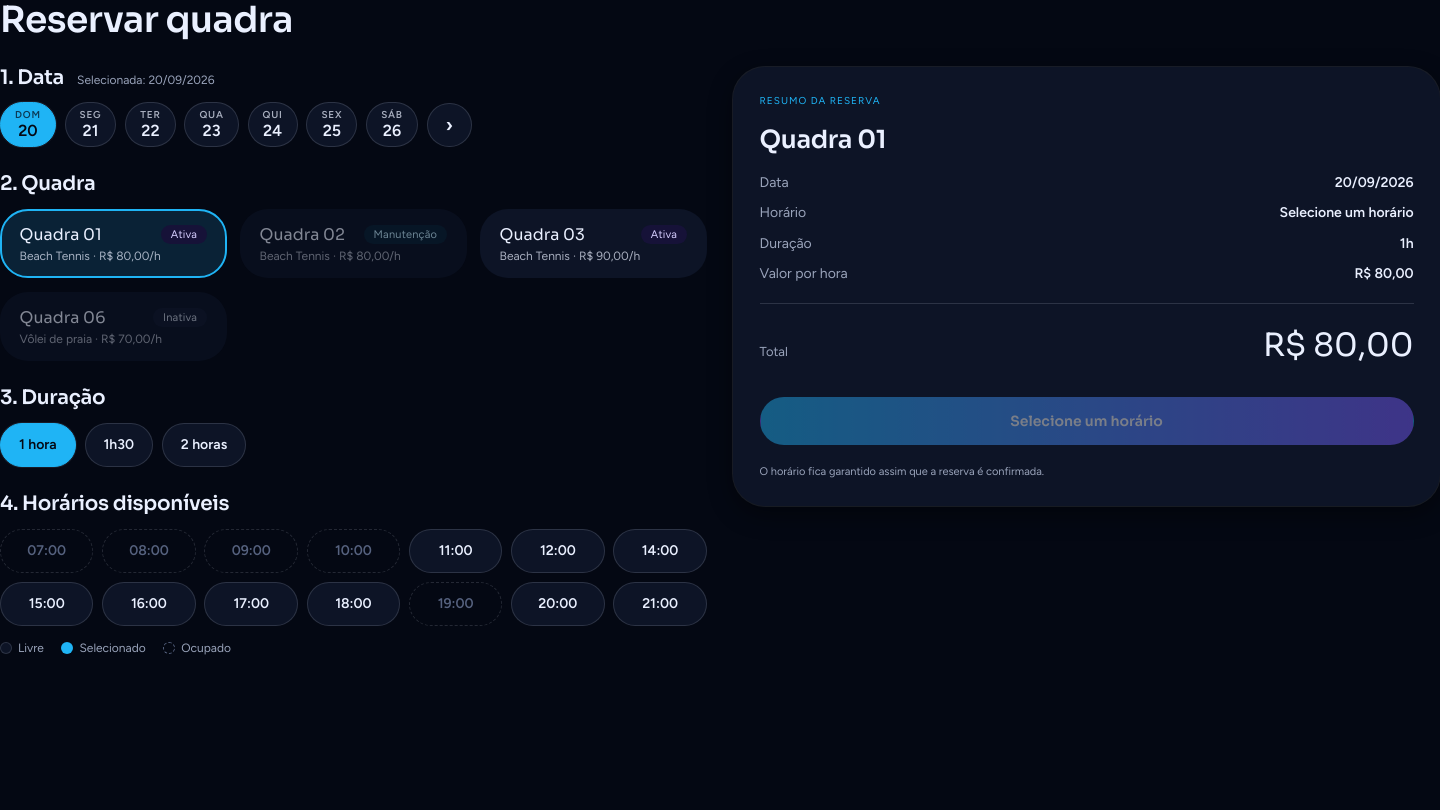
Scenario: ReservarPage › exibe o erro do backend, fecha o diálogo e limpa o horário
The width and height of the screenshot is (1440, 810).
Click the button "15:00": coordinates (47, 604) [0, 582, 93, 626]
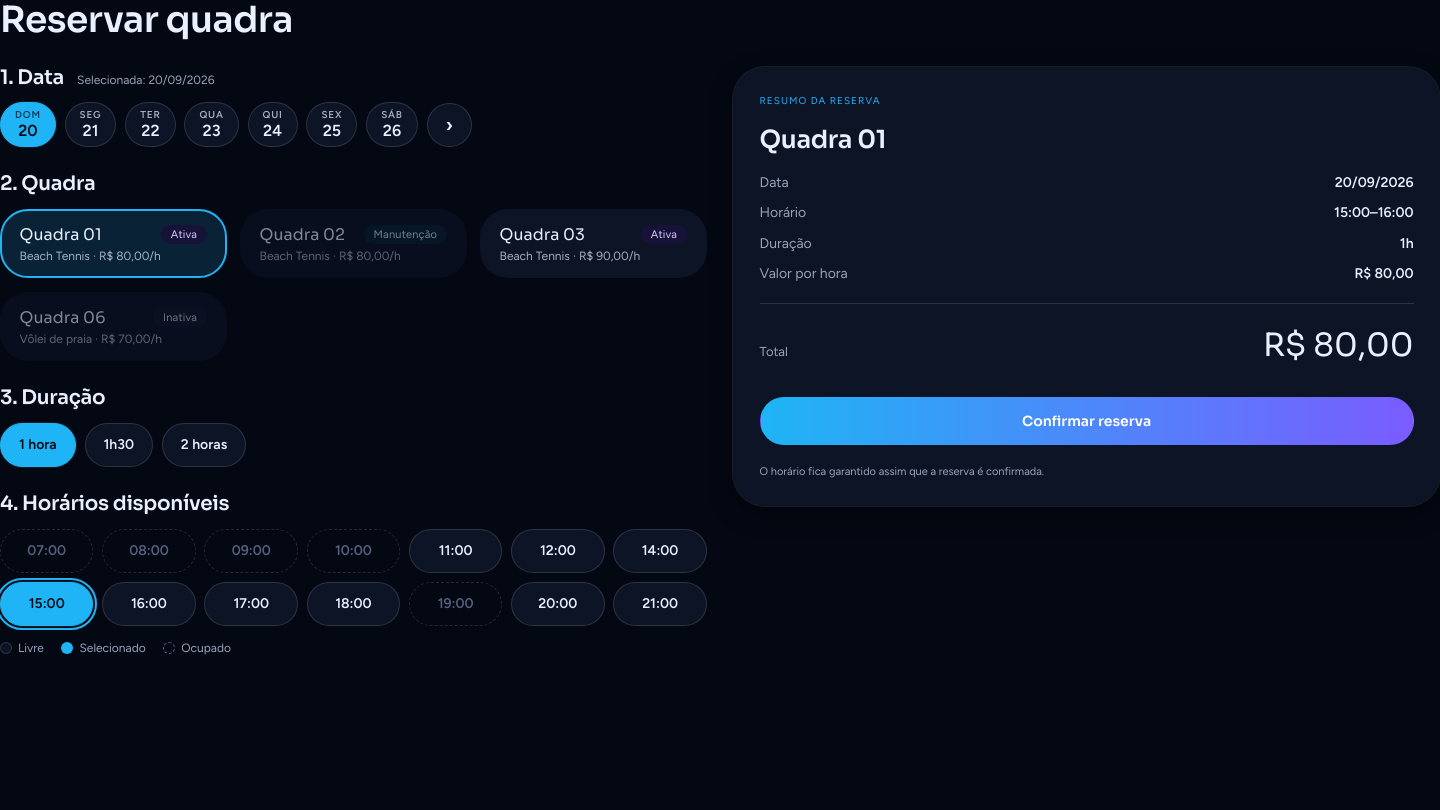
Click the button "Confirmar reserva": coordinates (1087, 421) [760, 397, 1414, 445]
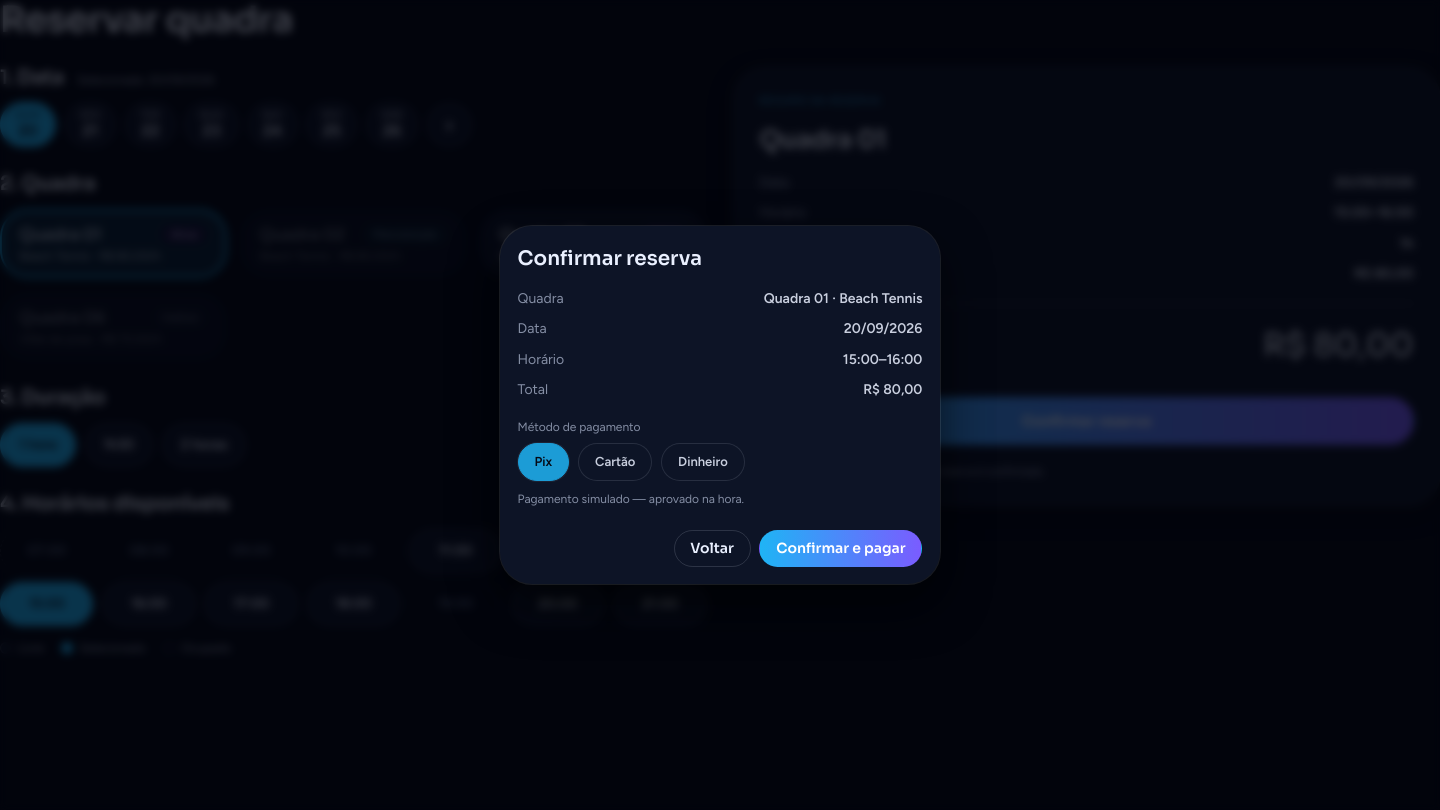
Click the button "Confirmar e pagar": coordinates (841, 548) [760, 530, 922, 567]
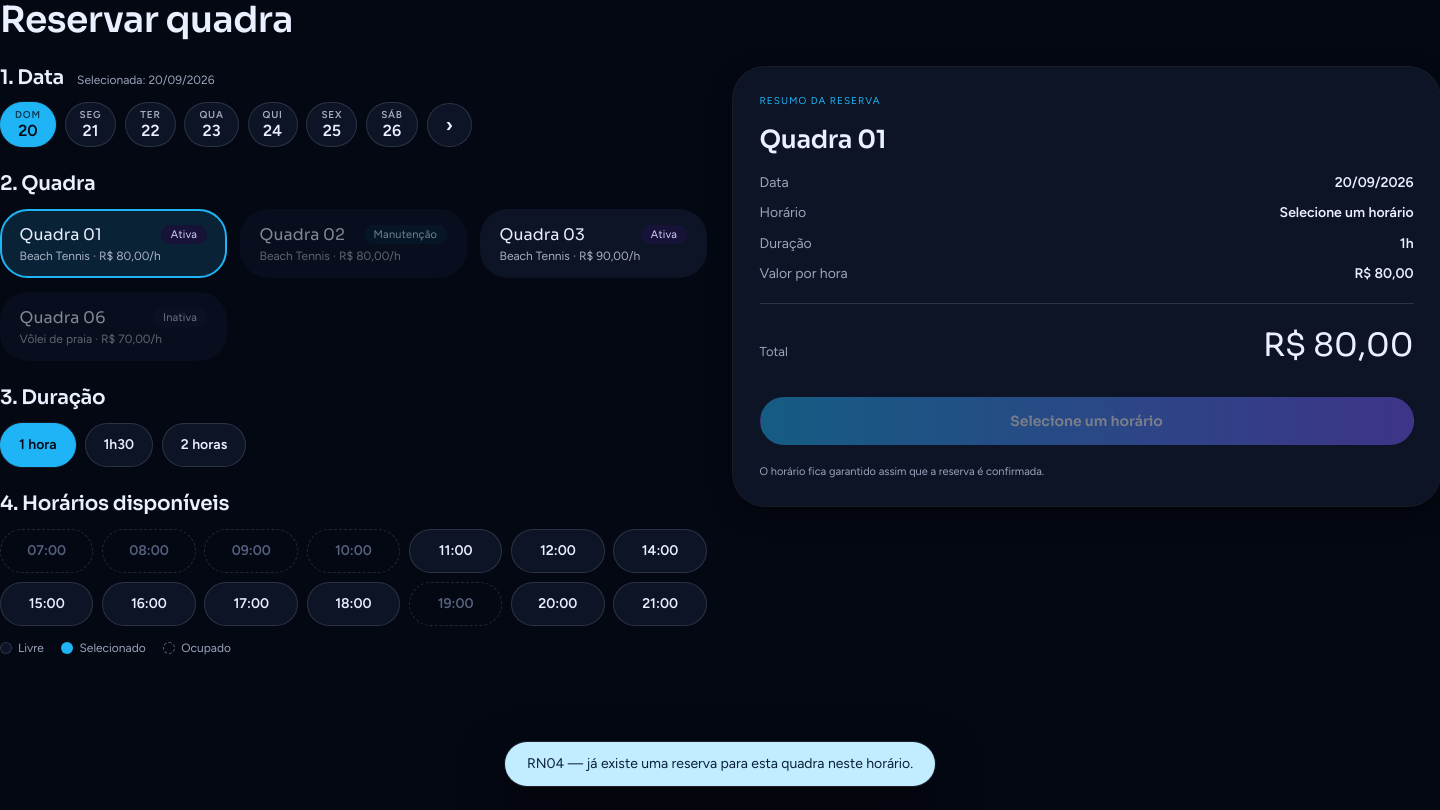
Result: the text "RN04 — já existe uma reserva para esta quadra neste horário." is shown at [505, 742, 935, 786]
Result: the button "Confirmar reserva" is gone
Result: the button "Selecione um horário" is shown at [760, 397, 1414, 445]
